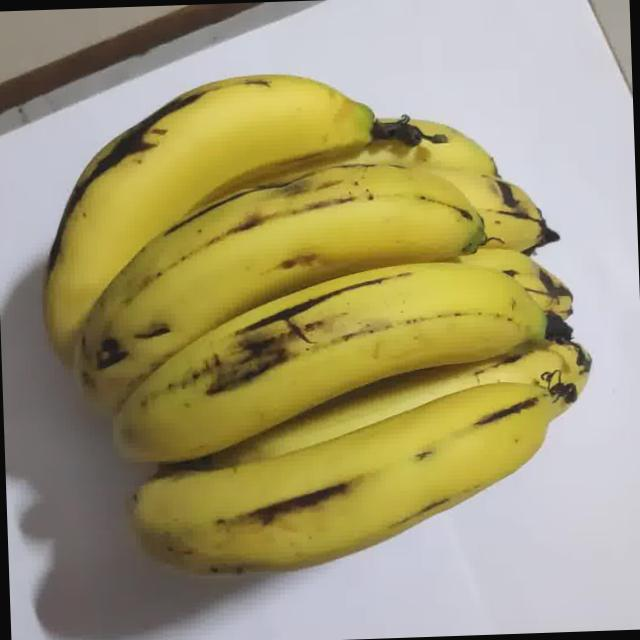banana_pacche: (20, 24, 627, 640)
